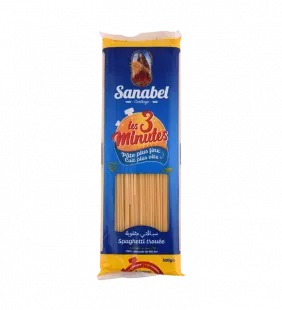SANABEL CARTHAGE: (91, 20, 195, 291)
